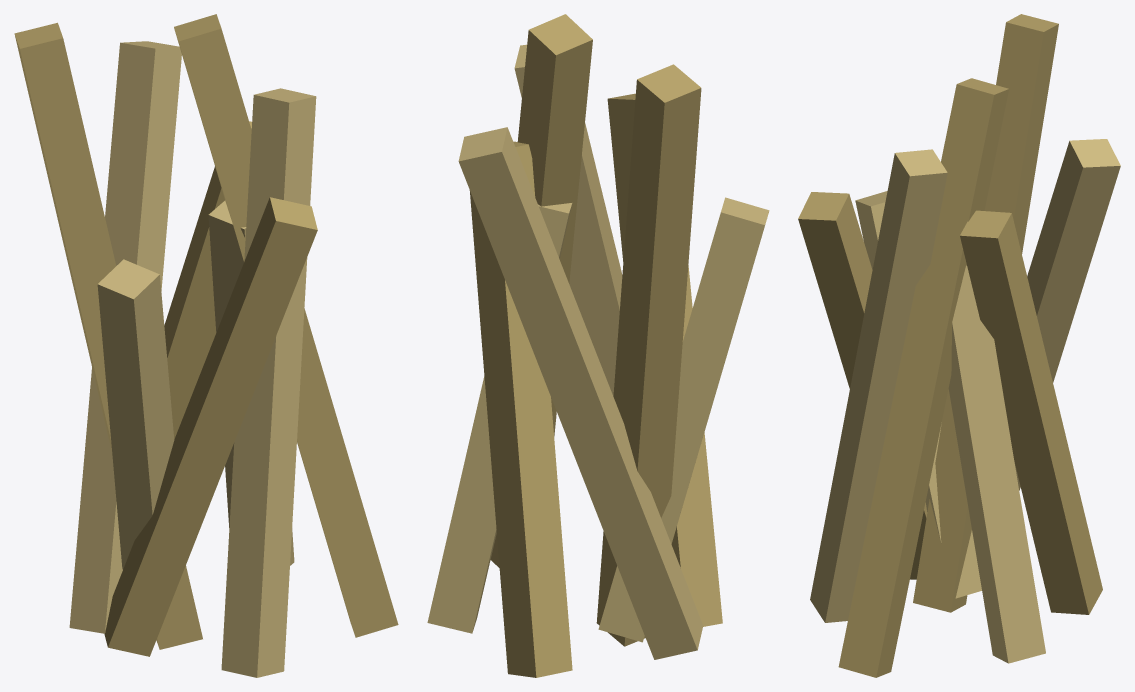
The model's file is loc_cc_nat_beachgrass.glb.
3 renders of one model, left to right at view 1: azimuth 30°, elevation 25°; view 2: azimuth 150°, elevation 25°; view 3: azimuth 270°, elevation 25°, orthographic. The views are drawn at different scales.
Parts seen in each view (by area): view 1: blade_6, blade_5, blade_2, blade_7, blade_3, blade_4, blade_1, blade_0; view 2: blade_2, blade_3, blade_1, blade_4, blade_7, blade_0, blade_6, blade_5; view 3: blade_7, blade_1, blade_6, blade_0, blade_3, blade_2, blade_5, blade_4.
Part boxes in pixels (x1=…): blade_6: x1=221, y1=88, x2=316, y2=677; blade_5: x1=104, y1=197, x2=317, y2=656; blade_2: x1=69, y1=41, x2=181, y2=633; blade_7: x1=174, y1=14, x2=398, y2=637; blade_3: x1=14, y1=22, x2=202, y2=649; blade_4: x1=97, y1=259, x2=174, y2=569; blade_1: x1=164, y1=121, x2=251, y2=438; blade_0: x1=208, y1=200, x2=294, y2=565; blade_2: x1=458, y1=127, x2=703, y2=659; blade_3: x1=596, y1=64, x2=701, y2=646; blade_1: x1=469, y1=141, x2=572, y2=677; blade_4: x1=598, y1=197, x2=769, y2=642; blade_7: x1=490, y1=14, x2=592, y2=567; blade_0: x1=427, y1=203, x2=572, y2=633; blade_6: x1=514, y1=44, x2=622, y2=395; blade_5: x1=607, y1=93, x2=722, y2=626; blade_7: x1=838, y1=78, x2=1008, y2=677; blade_1: x1=960, y1=210, x2=1102, y2=614; blade_6: x1=810, y1=149, x2=947, y2=622; blade_0: x1=948, y1=265, x2=1045, y2=663; blade_3: x1=913, y1=14, x2=1058, y2=612; blade_2: x1=1014, y1=139, x2=1120, y2=490; blade_5: x1=798, y1=192, x2=927, y2=579; blade_4: x1=855, y1=191, x2=981, y2=598.
Size of the model in its own units: 0.3807 by 0.7364 by 0.391.
